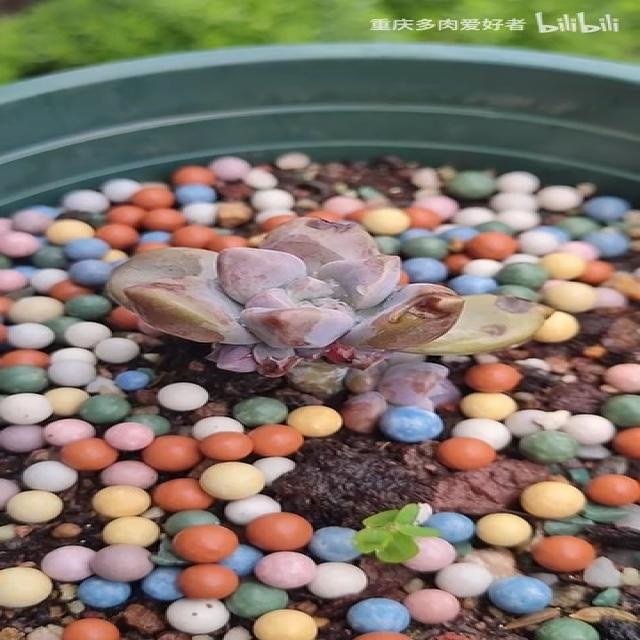-: (389, 290, 457, 324), (308, 218, 364, 236)
